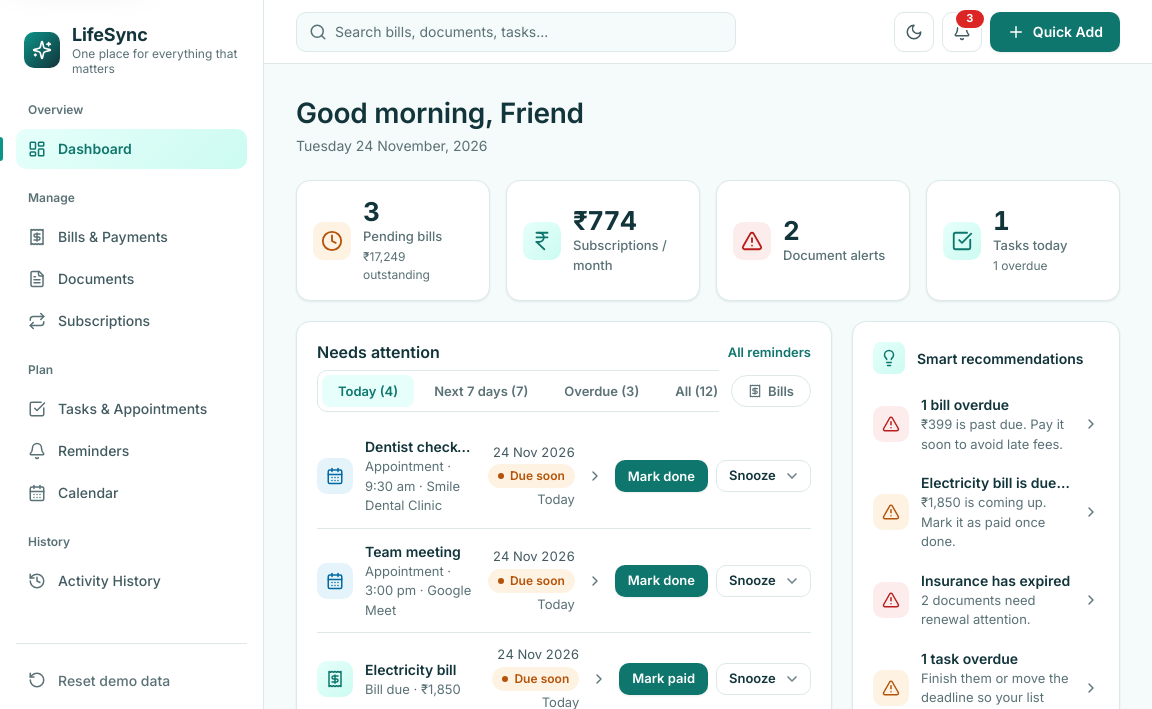
it: Quick Add › rejects an amount above the limit and one with more than 2 decimal places
Click the button "Quick Add".
click(1055, 32)  # box [990, 12, 1120, 52]
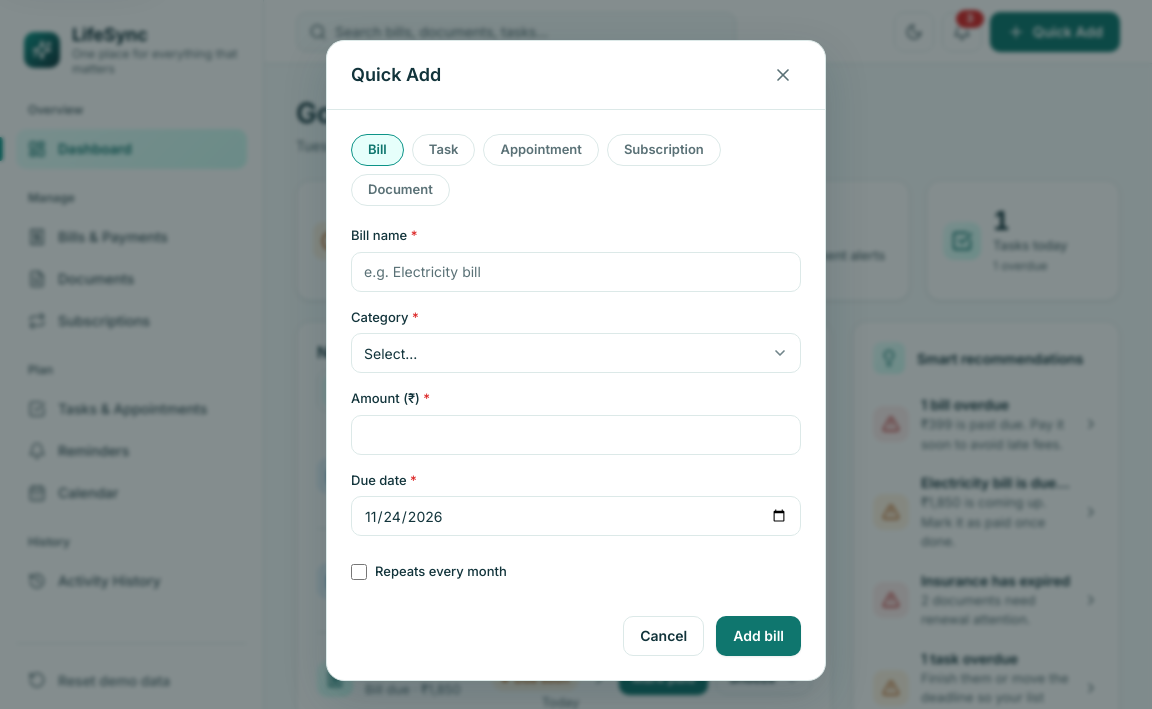
Type "Gym fees" into the field labelled "Bill name *".
click(576, 271); type("Gym fees")  # box [351, 251, 801, 291]
Select "Other" in the dropdown labelled "Category *" at (576, 352), box [351, 332, 801, 372]
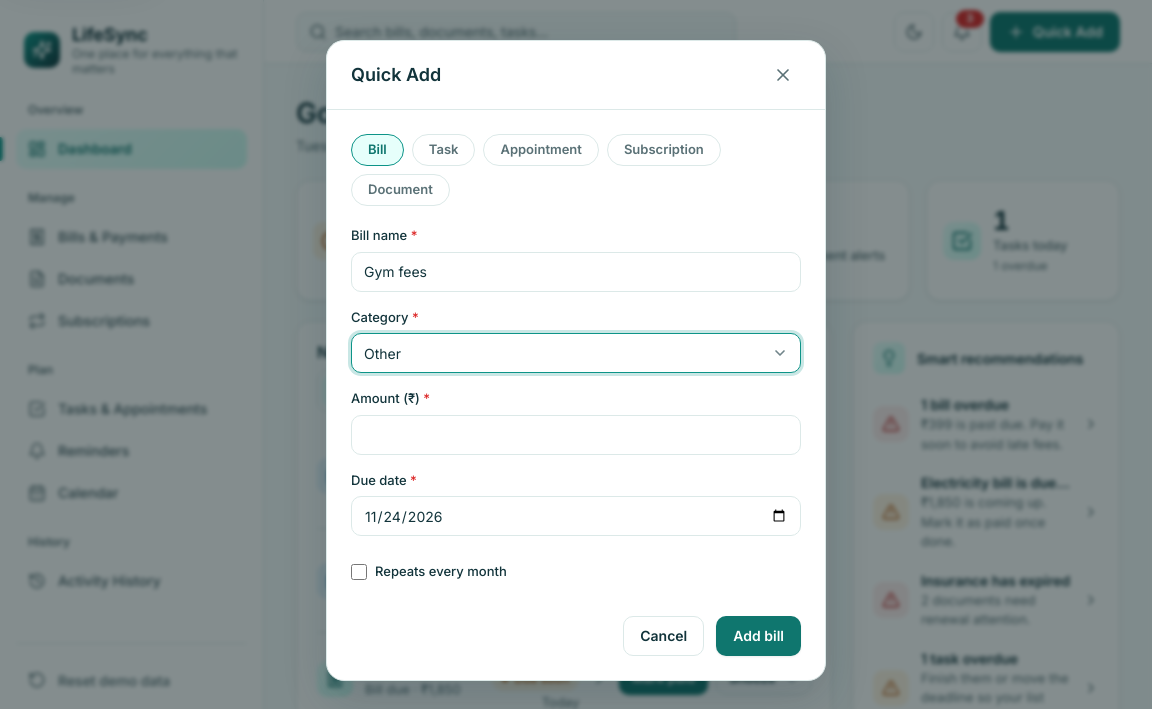
Type "10000001" into the number field labelled "Amount (₹) *".
click(576, 434); type("10000001")  # box [351, 414, 801, 454]
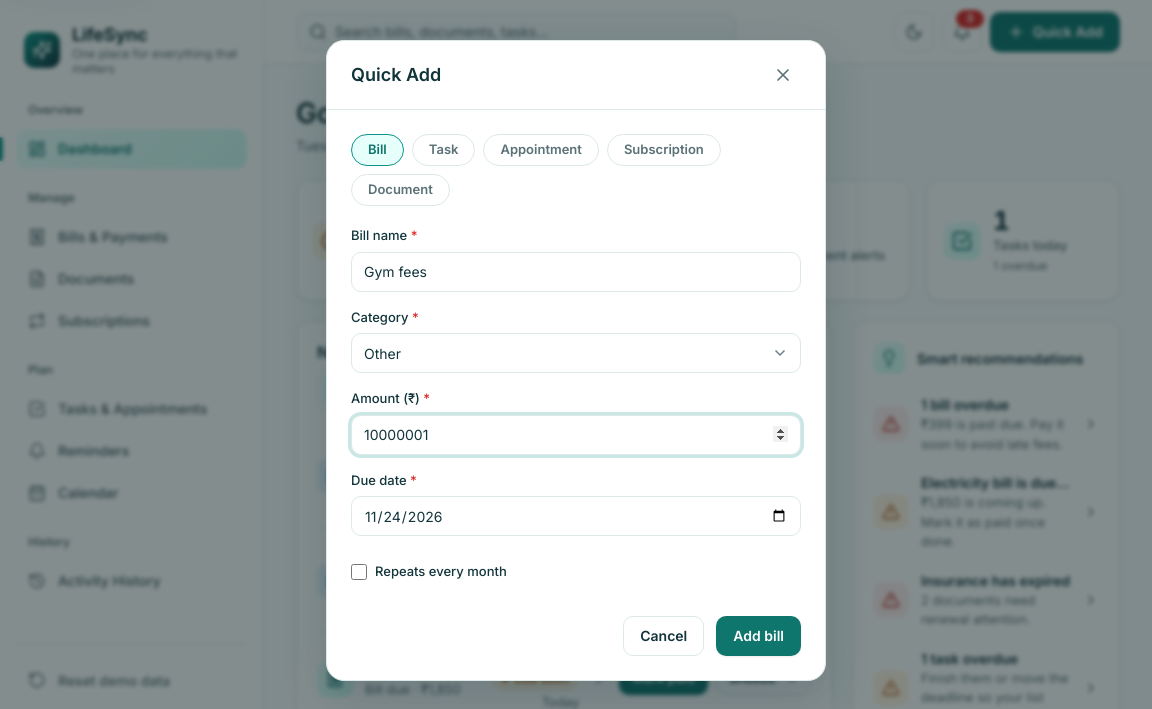
Click the button "Add bill".
click(759, 636)  # box [716, 616, 801, 656]
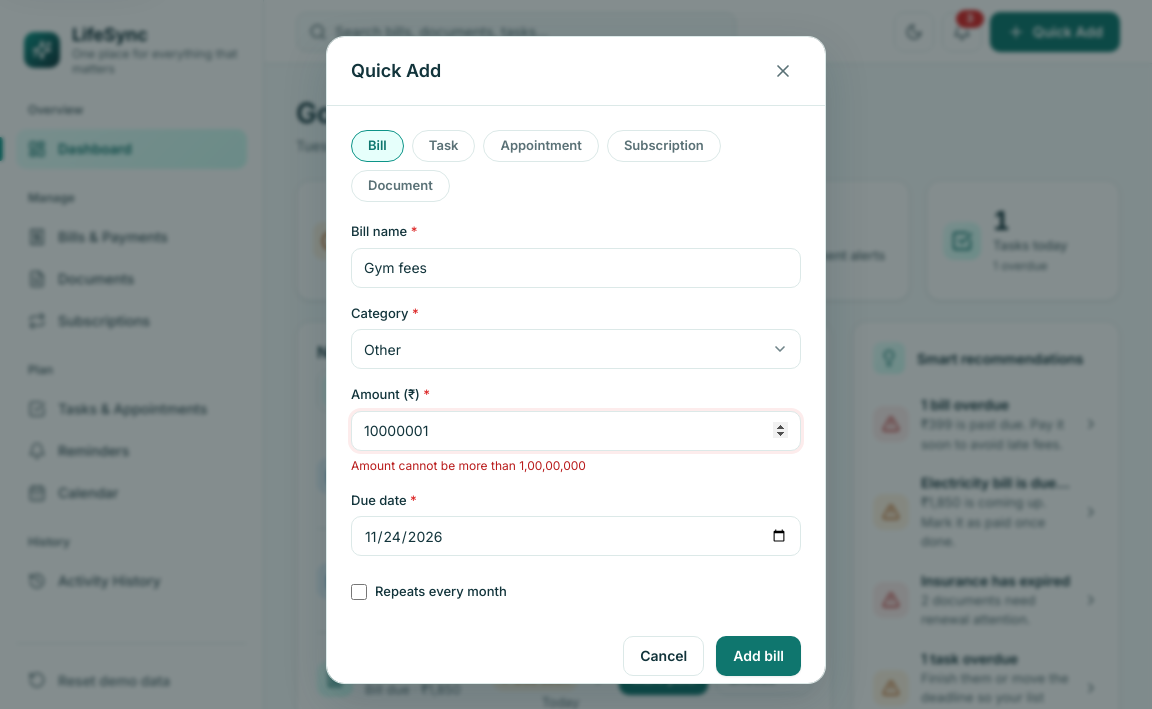
Check: the text "Amount cannot be more than 1,00,00,000" is shown, box [351, 458, 586, 472]
Clear the number field labelled "Amount (₹) *" at (576, 430), box [351, 410, 801, 450]
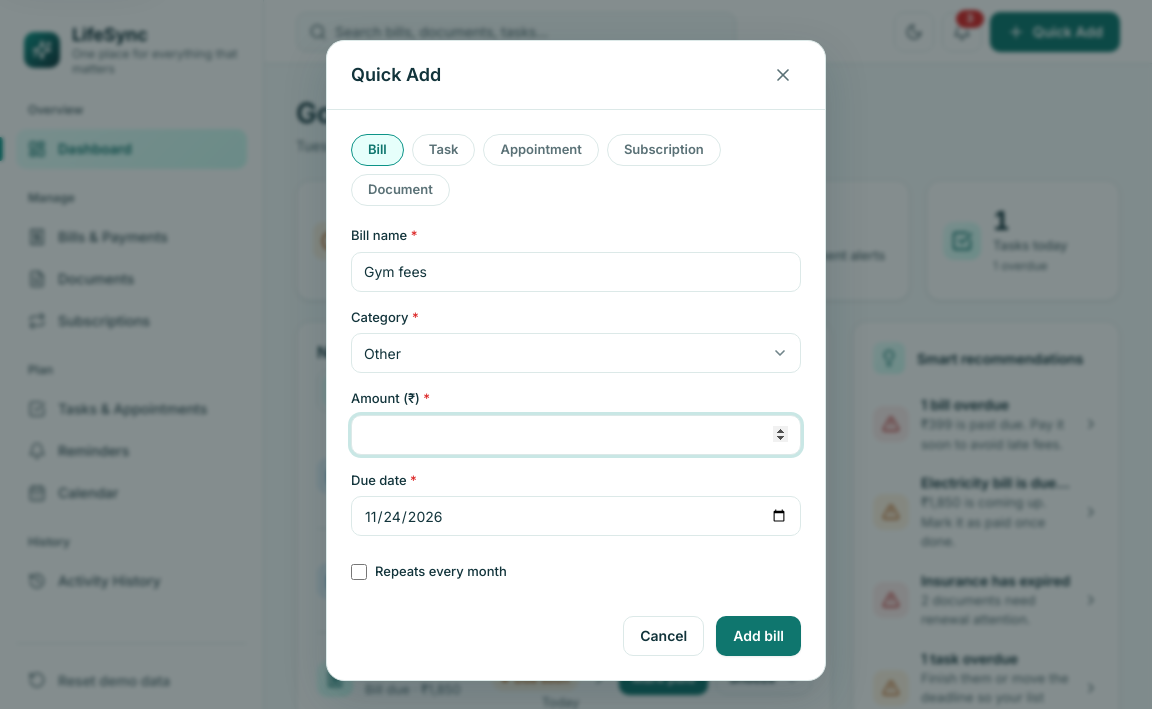
Type "12.345" into the number field labelled "Amount (₹) *".
click(576, 434); type("12.345")  # box [351, 414, 801, 454]
Click the button "Add bill".
click(759, 636)  # box [716, 616, 801, 656]
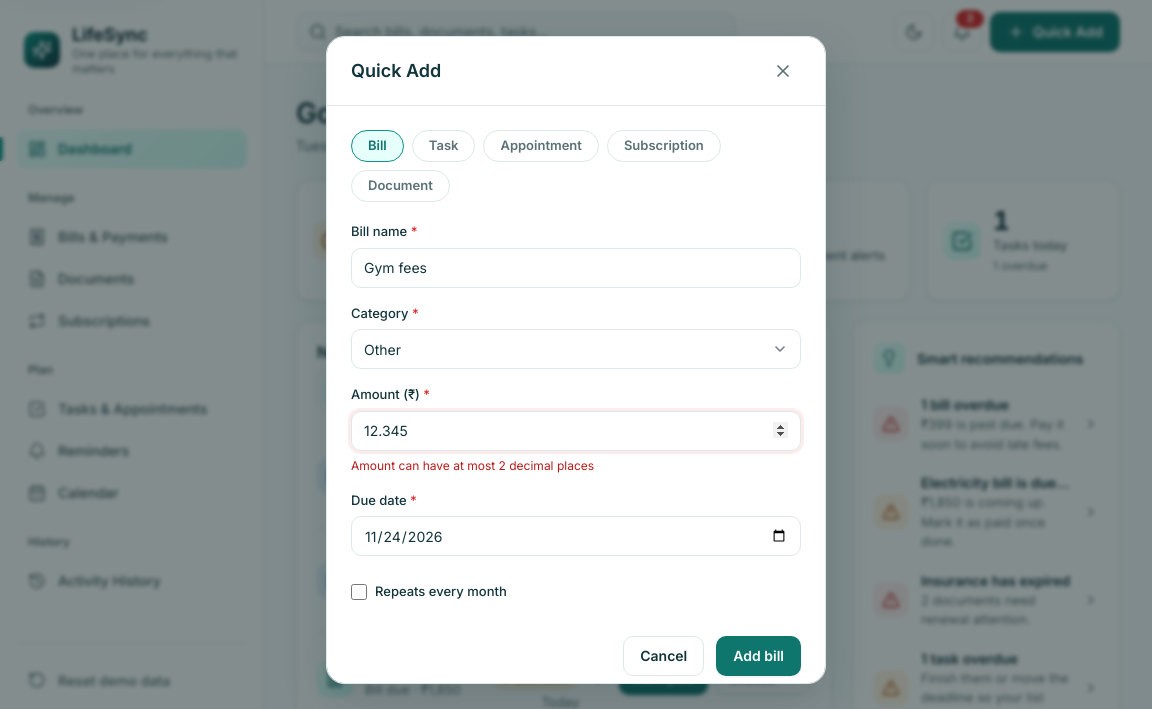
Check: the text "Amount can have at most 2 decimal places" is shown, box [351, 458, 594, 472]
